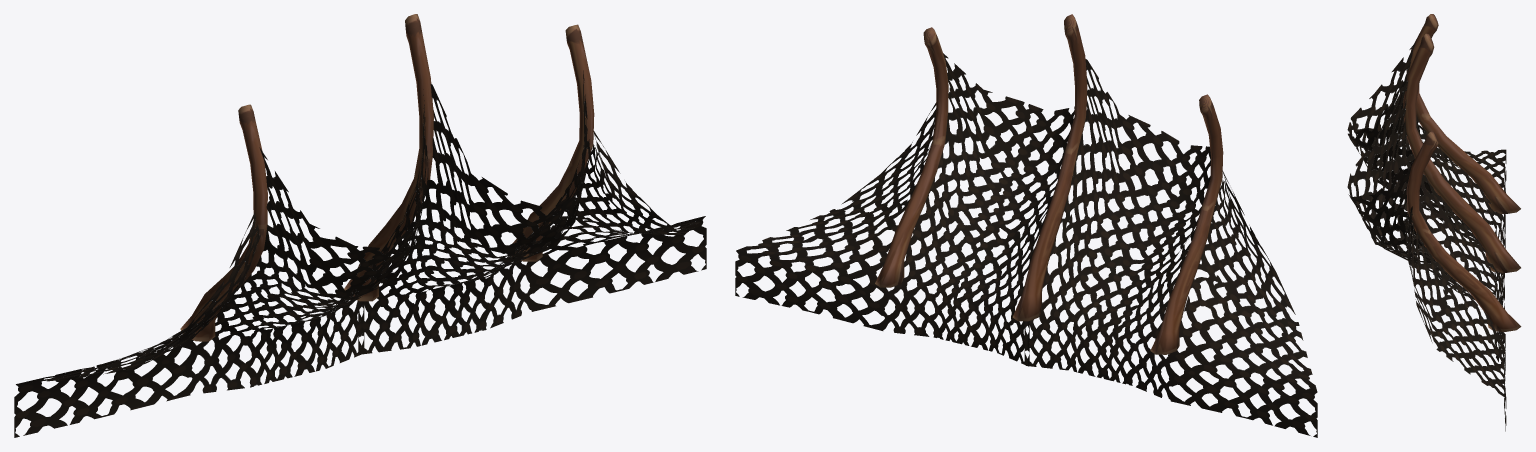
File: SM_FishingNets_01.fbx
3 views of the same model, side by side, from view 1: azimuth 30°, elevation 25°; view 2: azimuth 150°, elevation 25°; view 3: azimuth 270°, elevation 25° (orthographic). The views are drawn at different scales.
Visible parts, largest first — view 1: FishingNets, NetStick.001; view 2: FishingNets, NetStick.001; view 3: FishingNets, NetStick.001.
Boxes of the visible parts, x1,y1,x2,y2 form: FishingNets: (14, 70, 706, 437); NetStick.001: (180, 14, 594, 341); FishingNets: (735, 53, 1317, 437); NetStick.001: (875, 14, 1223, 354); FishingNets: (1347, 41, 1506, 431); NetStick.001: (1403, 14, 1521, 331).
Bounding box in the file's own units: 621 × 325 × 184.
